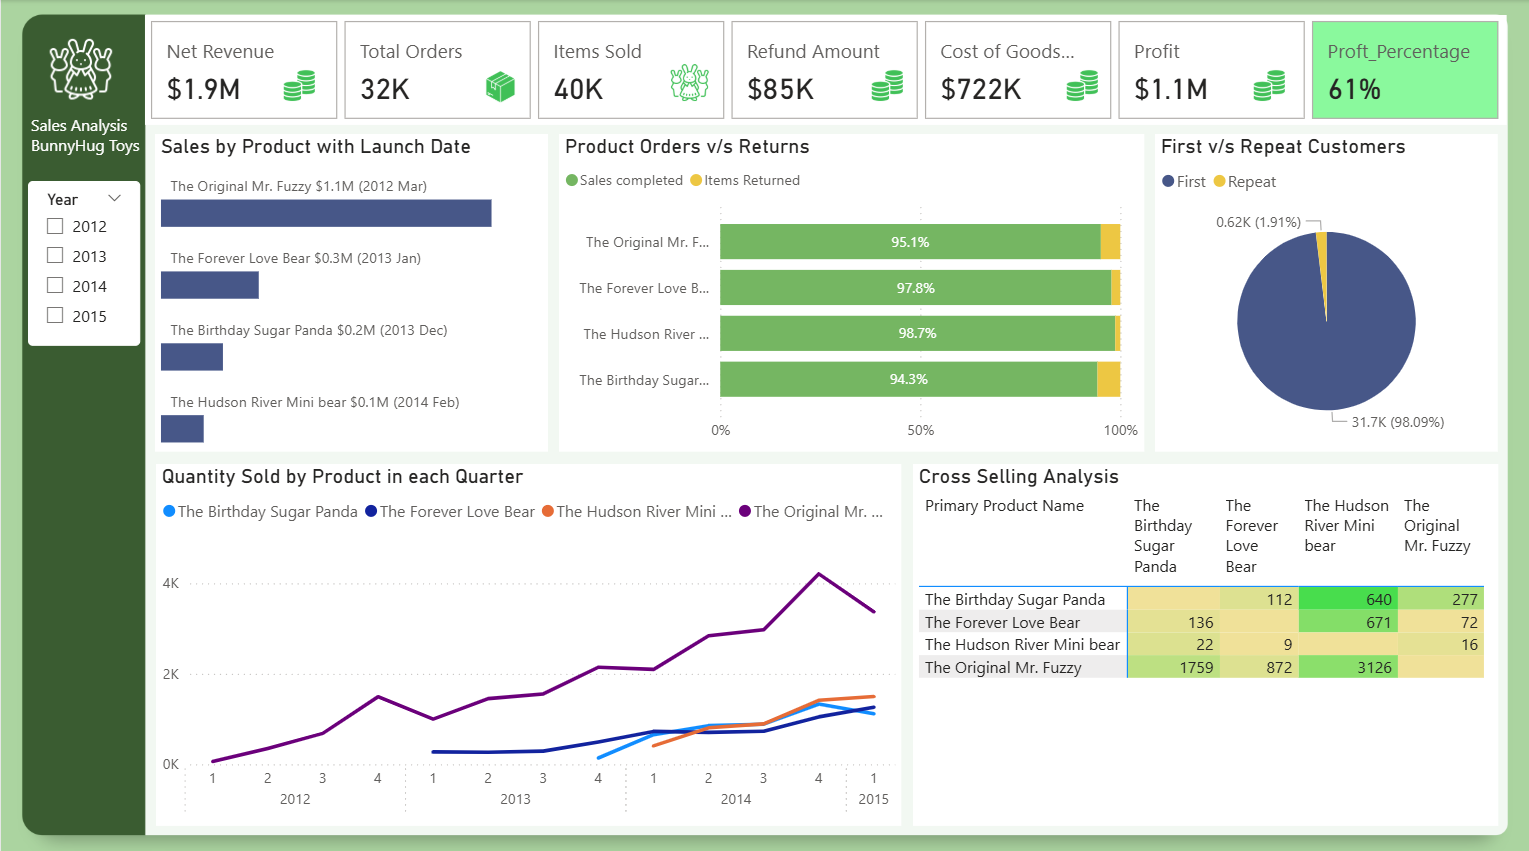

Layout of this report page (visuals, bound fields, positions):
{"tool":"powerbi","page":{"name":"Sales Dashboard","canvas":[1280,720],"ordinal":3},"visuals":[{"type":"cardVisual","fields":{"Data":["calculations.Net_Revenue","order_items.order_id","order_items.order_item_id","order_item_refunds.refund_amount_usd","order_items.cogs_usd","calculations.Profit","calculations.Proft_Percentage"]},"box":[120.8,12.9,1140.3,92.3],"z":0},{"type":"image","box":[227.7,53.5,43.1,36.2],"z":1000},{"type":"image","box":[883.2,53.5,43.1,36.2],"z":2000},{"type":"image","box":[1040.2,53.5,43.1,36.2],"z":3000},{"type":"image","box":[720.2,53.5,43.1,36.2],"z":4000},{"type":"image","box":[395,53.5,46.6,38],"z":5000},{"type":"slicer","fields":{"Values":["Dates.Year"]},"box":[22.4,151.8,94,138],"z":6000},{"type":"image","box":[20.7,25.9,92.3,63.8],"z":7000},{"type":"clusteredBarChart","title":"Sales by Product with Launch Date","fields":{"Category":["products.product_name"],"Y":["calculations.Dummy Series","calculations.Net Revenue"]},"box":[128.5,112.1,329.5,265.7],"z":8000},{"type":"pieChart","title":"First v/s Repeat Customers","fields":{"Category":["orders.User_Type"],"Y":["orders.User_Type"]},"box":[966,112.1,287.2,265.7],"z":9000},{"type":"lineChart","title":"Quantity Sold by Product in each Quarter","fields":{"Category":["Dates.Year","Dates.Quarter"],"Y":["order_items.order_item_id"],"Series":["products.product_name"]},"box":[129.4,388.1,624.5,302.7],"z":10000},{"type":"hundredPercentStackedBarChart","title":"Product Orders v/s Returns","fields":{"Category":["products.product_name"],"Y":["order_items.order_item_id","order_item_refunds.order_item_refund_id"]},"box":[467.5,112.1,489.9,265.7],"z":11000},{"type":"textbox","box":[20.3,90.1,107.8,68],"z":12000},{"type":"image","box":[550.3,47.7,53,43.3],"z":13000},{"type":"pivotTable","title":"Cross Selling Analysis","fields":{"Rows":["CrossSellAnalysis.Primary Product Name"],"Columns":["CrossSellAnalysis.Secondary Product Name"],"Values":["CrossSellAnalysis.combination_frequency"]},"box":[763.3,388.1,489.9,302.7],"z":14000}]}

Visuals, with their boxes in screenshot pixels (x1, y1, x2, y2), scaled from the page's 1280x720 canvas onto the 1529x851 screenshot:
cardVisual - calculations.Net_Revenue x order_items.order_id: 144, 15, 1506, 124
image: 272, 63, 323, 106
image: 1055, 63, 1106, 106
image: 1243, 63, 1294, 106
image: 860, 63, 912, 106
image: 472, 63, 528, 108
slicer - Dates.Year: 27, 179, 139, 343
image: 25, 31, 135, 106
"Sales by Product with Launch Date" clusteredBarChart: 153, 132, 547, 447
"First v/s Repeat Customers" pieChart: 1154, 132, 1497, 447
"Quantity Sold by Product in each Quarter" lineChart: 155, 459, 901, 816
"Product Orders v/s Returns" hundredPercentStackedBarChart: 558, 132, 1144, 447
textbox: 24, 106, 153, 187
image: 657, 56, 721, 108
"Cross Selling Analysis" pivotTable: 912, 459, 1497, 816
